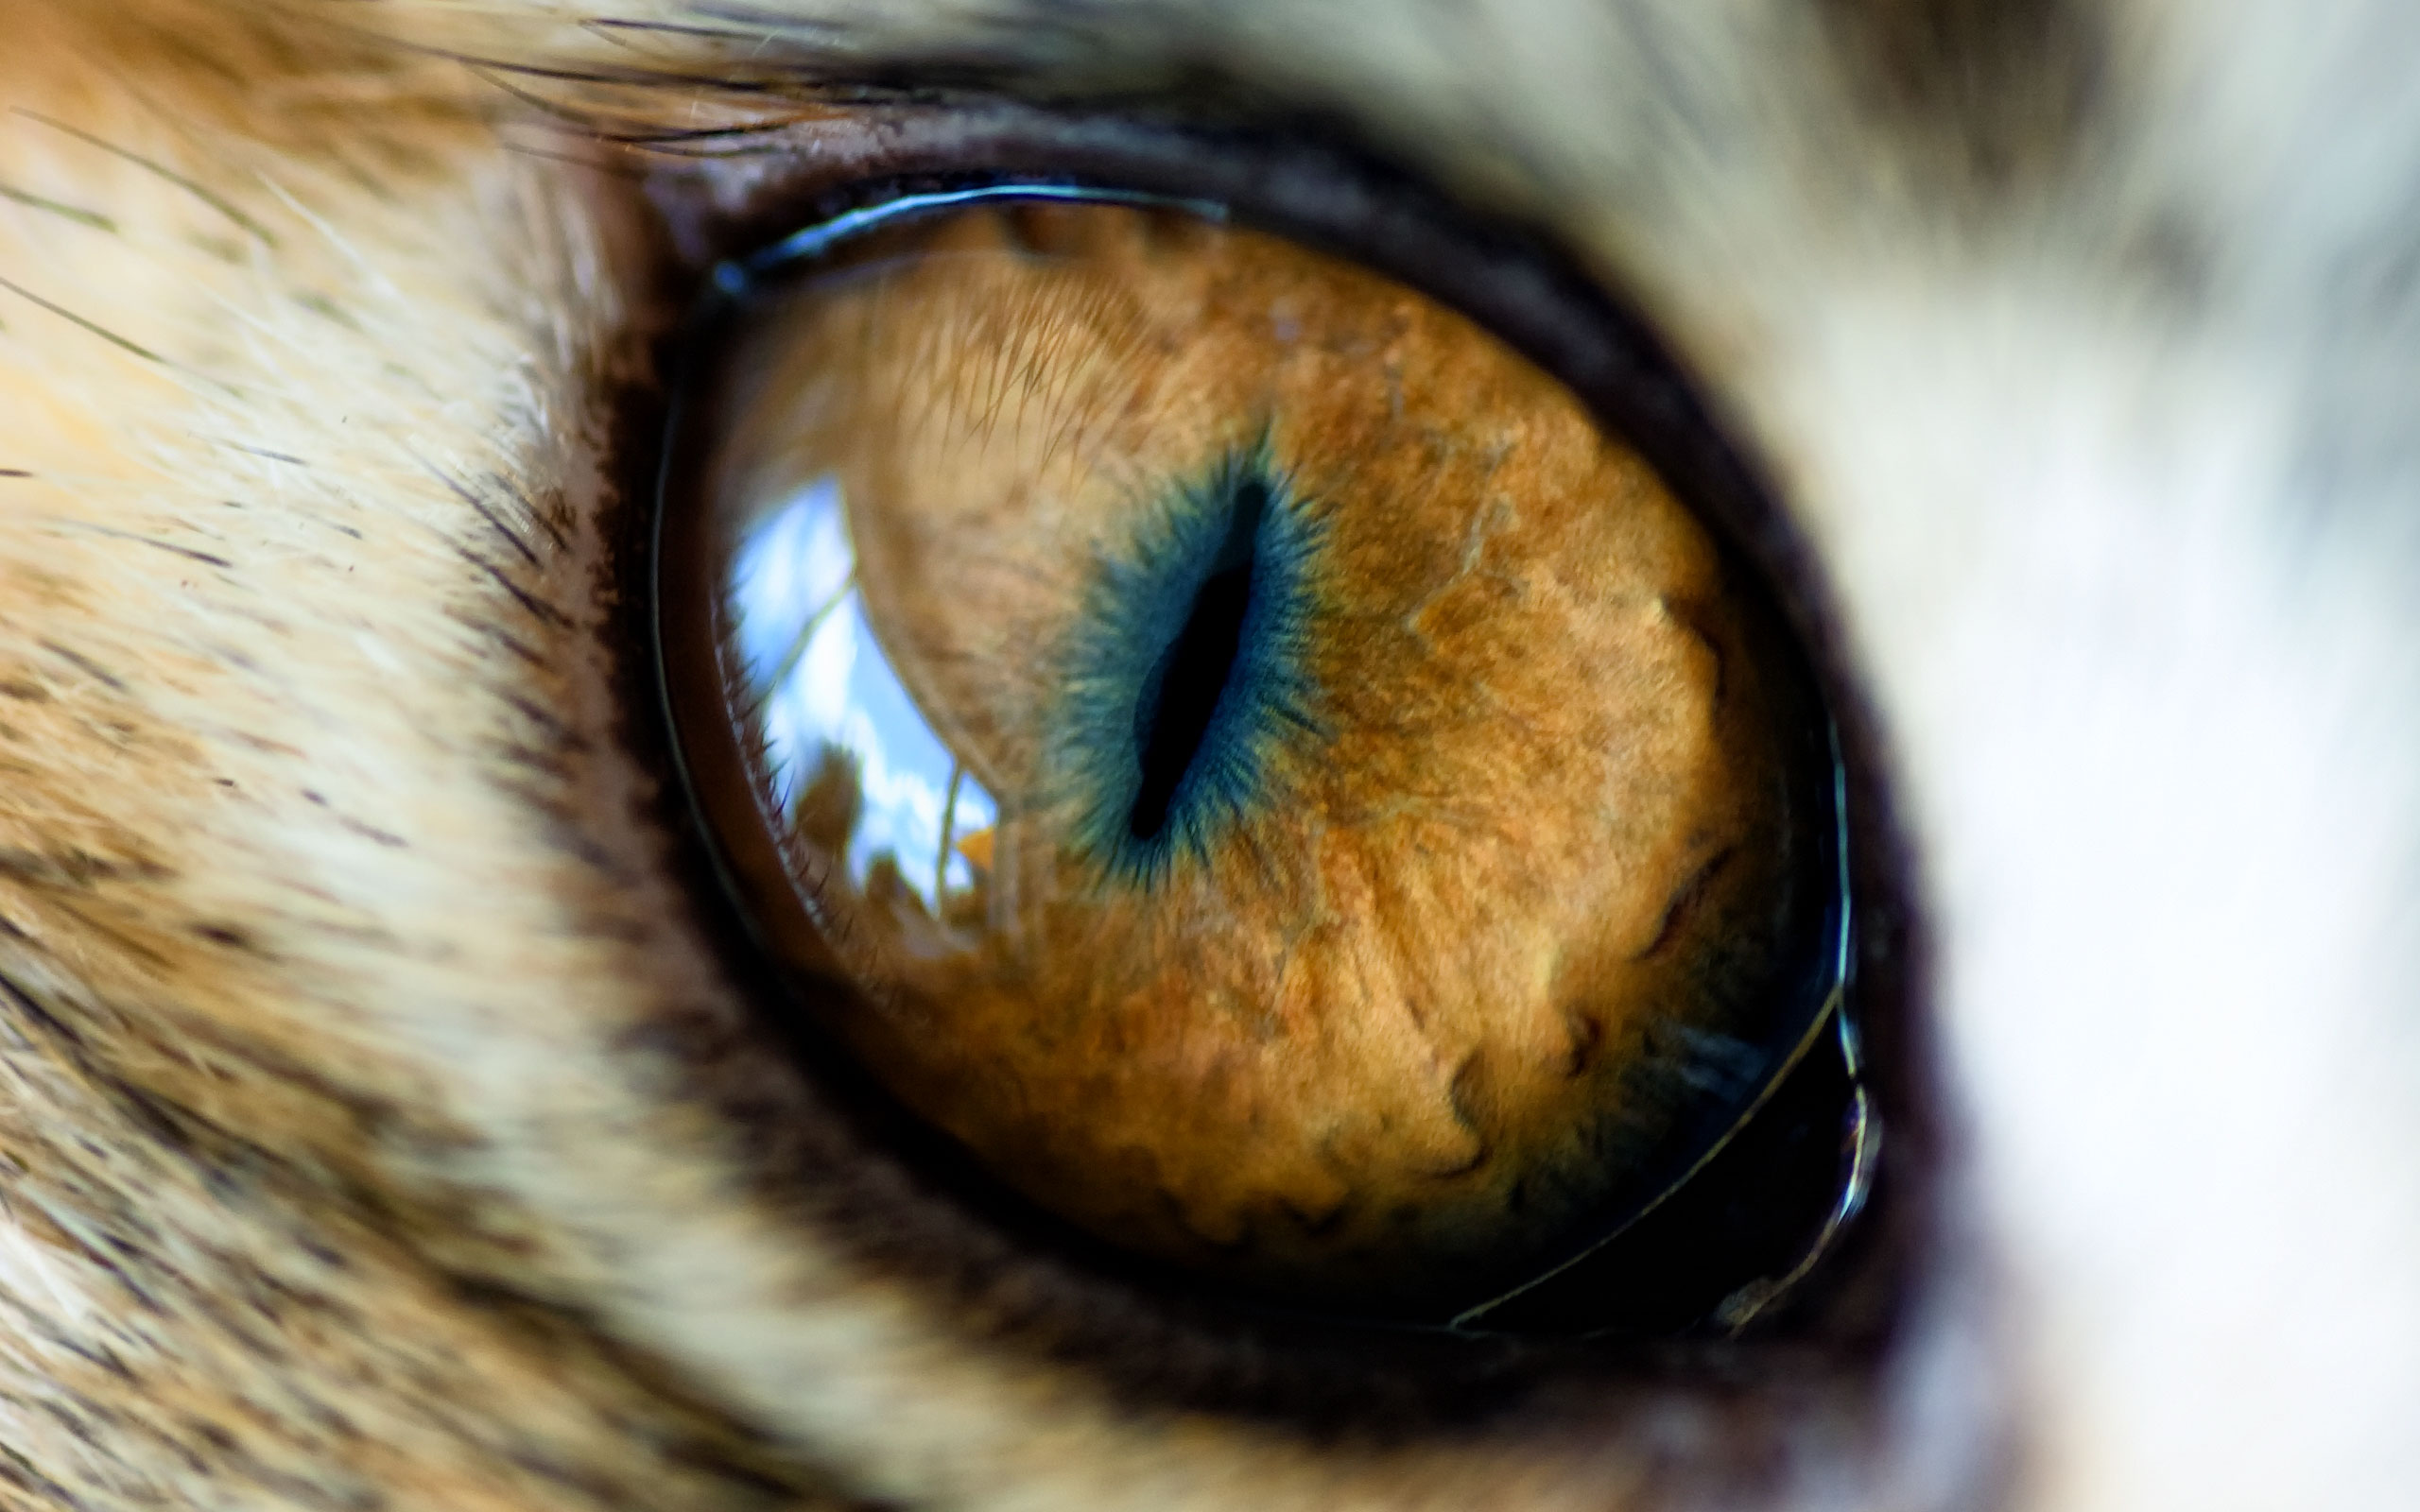Tigrew: (24, 52, 2248, 1439)
